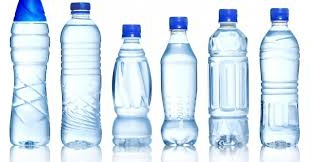plastic water bottle: (58, 1, 105, 150), (7, 1, 53, 149), (205, 5, 251, 148), (256, 7, 302, 149), (109, 20, 154, 150), (159, 15, 200, 148)
